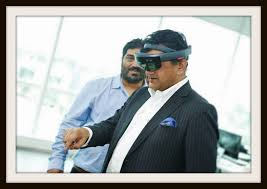hololens: (135, 42, 193, 73)
